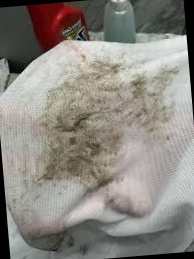earth: (32, 69, 128, 183)
